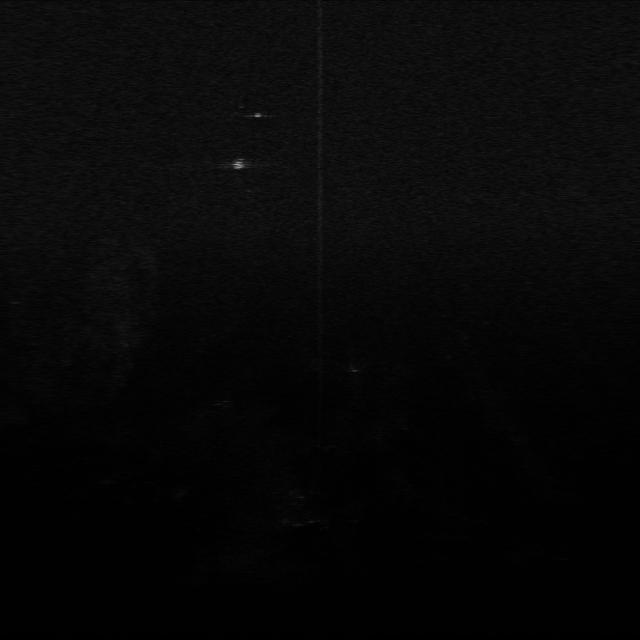rov: (228, 156, 250, 173)
